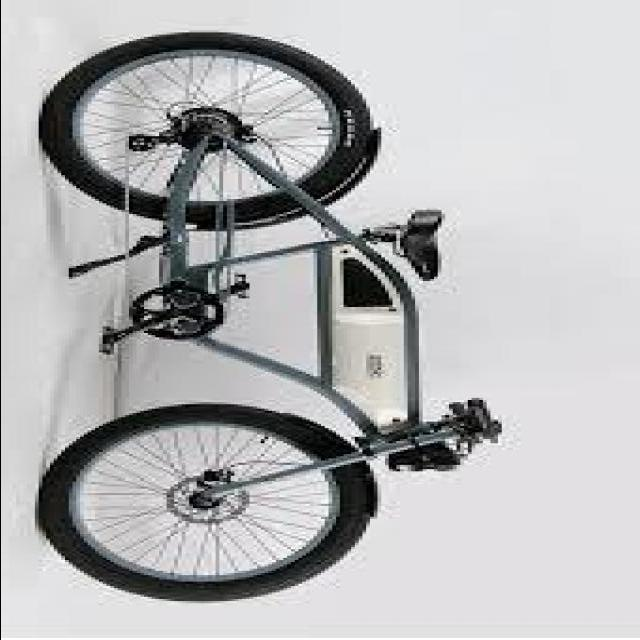bicycle: (57, 35, 456, 613)
